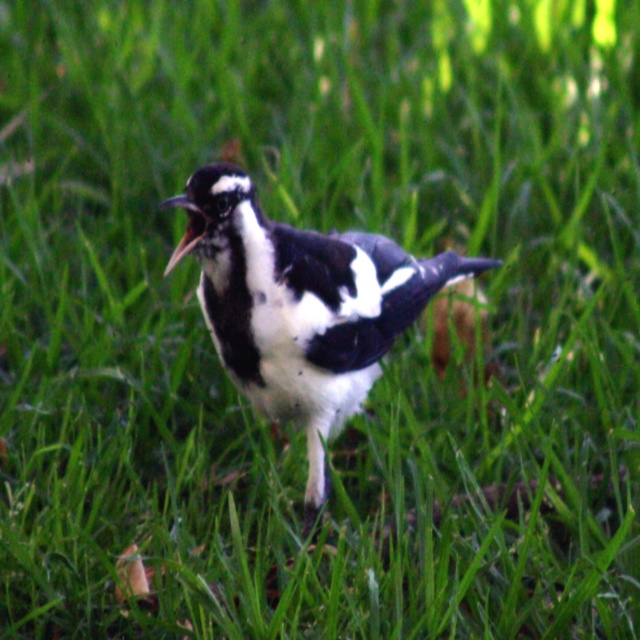Magpie: (161, 165, 505, 551)
